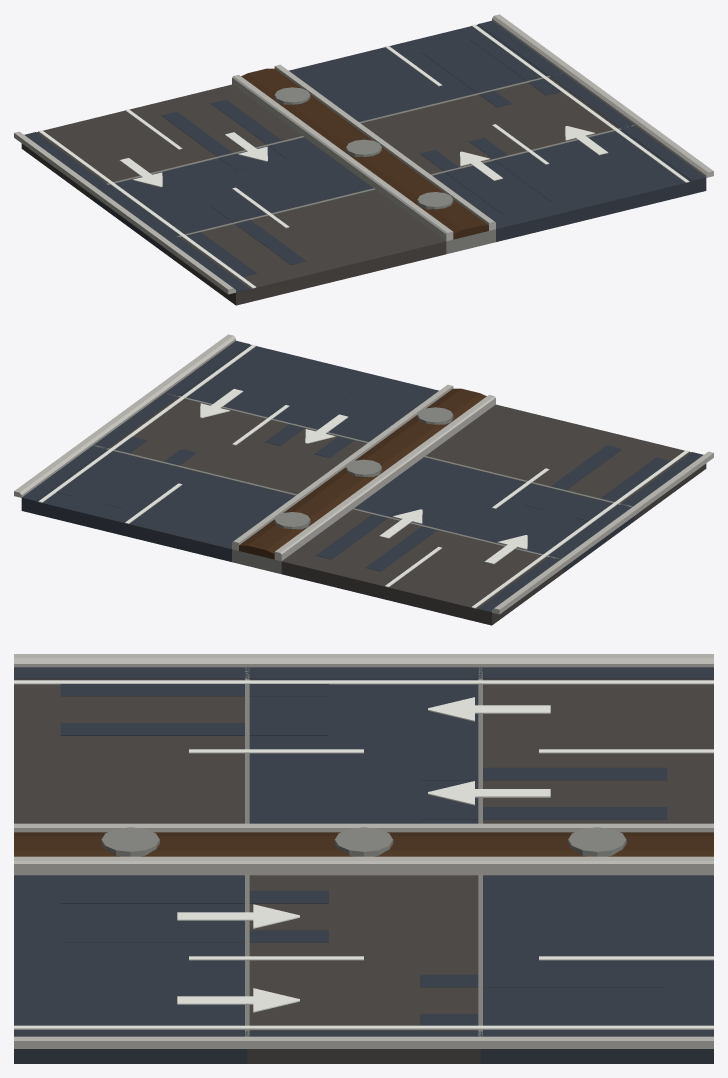
File: ROAD_02.obj
The picture shows the model from 3 angles, top to bottom: view 1: azimuth 30°, elevation 25°; view 2: azimuth 150°, elevation 25°; view 3: azimuth 270°, elevation 25°; orthographic projection. The views are drawn at different scales.
Parts seen in each view (by area): view 1: ROAD_02__surface, ROAD_02__markings, ROAD_02__wear, ROAD_02__median_soil, ROAD_02__median_curb, ROAD_02__curb, ROAD_02__seams, ROAD_02__tree_pit, ROAD_02__median_base; view 2: ROAD_02__surface, ROAD_02__markings, ROAD_02__wear, ROAD_02__median_soil, ROAD_02__median_curb, ROAD_02__curb, ROAD_02__seams, ROAD_02__tree_pit, ROAD_02__median_base; view 3: ROAD_02__surface, ROAD_02__markings, ROAD_02__wear, ROAD_02__median_curb, ROAD_02__curb, ROAD_02__median_soil, ROAD_02__tree_pit, ROAD_02__seams.
Boxes of the visible parts, left/top/right/bottom form: ROAD_02__surface: left=21, top=24, right=706, bottom=305; ROAD_02__markings: left=24, top=20, right=705, bottom=292; ROAD_02__wear: left=161, top=36, right=566, bottom=276; ROAD_02__median_soil: left=241, top=68, right=488, bottom=239; ROAD_02__median_curb: left=232, top=64, right=495, bottom=241; ROAD_02__curb: left=14, top=14, right=713, bottom=294; ROAD_02__seams: left=106, top=73, right=634, bottom=237; ROAD_02__tree_pit: left=274, top=87, right=453, bottom=209; ROAD_02__median_base: left=446, top=229, right=495, bottom=254; ROAD_02__surface: left=21, top=344, right=706, bottom=625; ROAD_02__markings: left=22, top=340, right=703, bottom=612; ROAD_02__wear: left=56, top=382, right=670, bottom=571; ROAD_02__median_soil: left=239, top=388, right=486, bottom=559; ROAD_02__median_curb: left=232, top=384, right=495, bottom=561; ROAD_02__curb: left=14, top=334, right=713, bottom=614; ROAD_02__seams: left=93, top=393, right=632, bottom=558; ROAD_02__tree_pit: left=274, top=407, right=453, bottom=529; ROAD_02__median_base: left=232, top=549, right=281, bottom=574; ROAD_02__surface: left=14, top=679, right=713, bottom=1063; ROAD_02__markings: left=14, top=667, right=713, bottom=1036; ROAD_02__wear: left=60, top=684, right=667, bottom=1025; ROAD_02__median_curb: left=14, top=823, right=713, bottom=875; ROAD_02__curb: left=14, top=654, right=713, bottom=1048; ROAD_02__median_soil: left=14, top=832, right=713, bottom=856; ROAD_02__tree_pit: left=101, top=827, right=626, bottom=856; ROAD_02__seams: left=245, top=667, right=482, bottom=1036.
Bounding box in the file's own units: 15.7 × 0.7 × 12.
